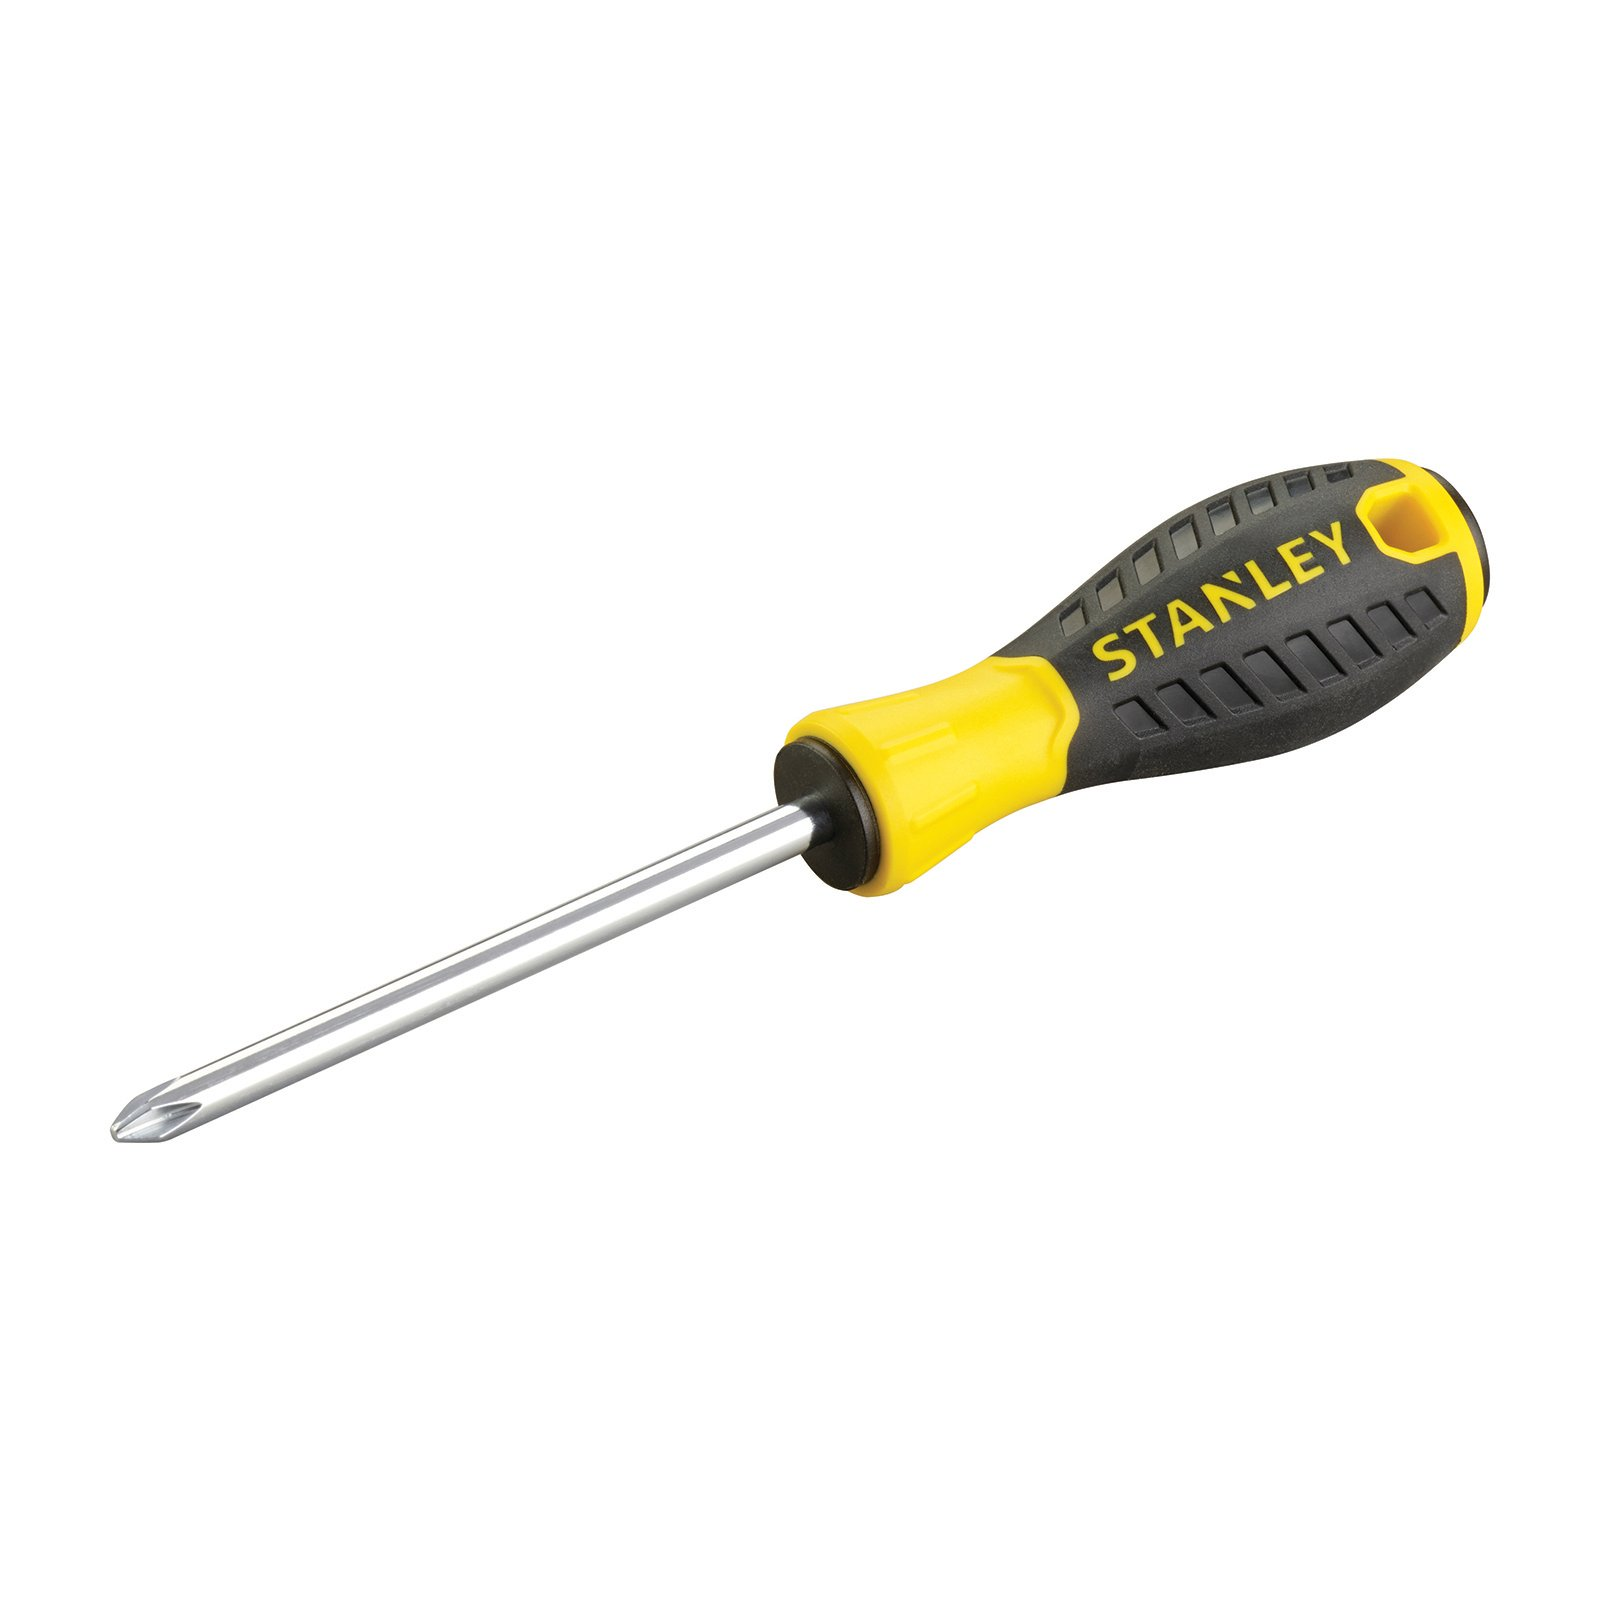screwdriver: (105, 450, 1502, 1146)
